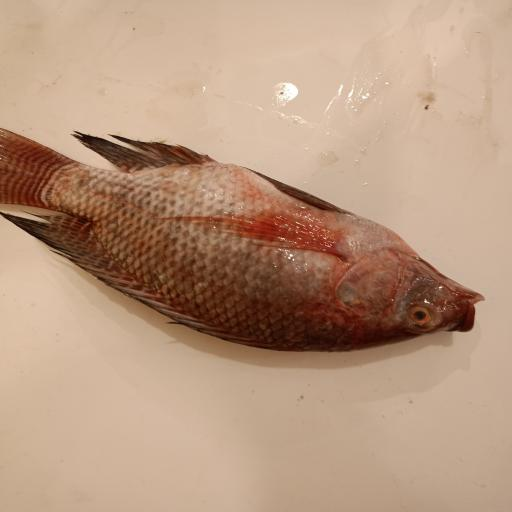Tilapia: (0, 127, 485, 352)
